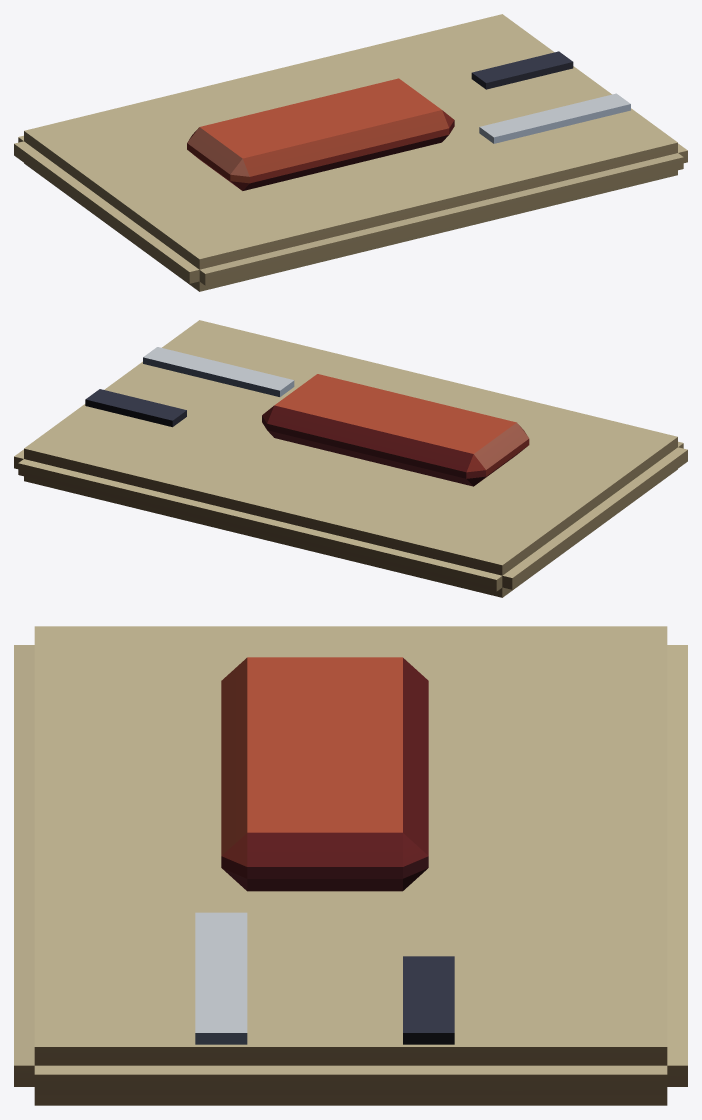
Rendered from cutting_board.glb.
The picture shows the model from 3 angles, top to bottom: view 1: azimuth 30°, elevation 25°; view 2: azimuth 150°, elevation 25°; view 3: azimuth 270°, elevation 25°; orthographic projection. The views are drawn at different scales.
Parts seen in each view (by area): view 1: cutting_board; view 2: cutting_board; view 3: cutting_board.
Boxes of the visible parts, x1,y1,x2,y2 form: cutting_board: (14,14,687,291); cutting_board: (14,320,687,597); cutting_board: (14,626,687,1105).
Size of the model in its own units: 0.4 by 0.05 by 0.26.
